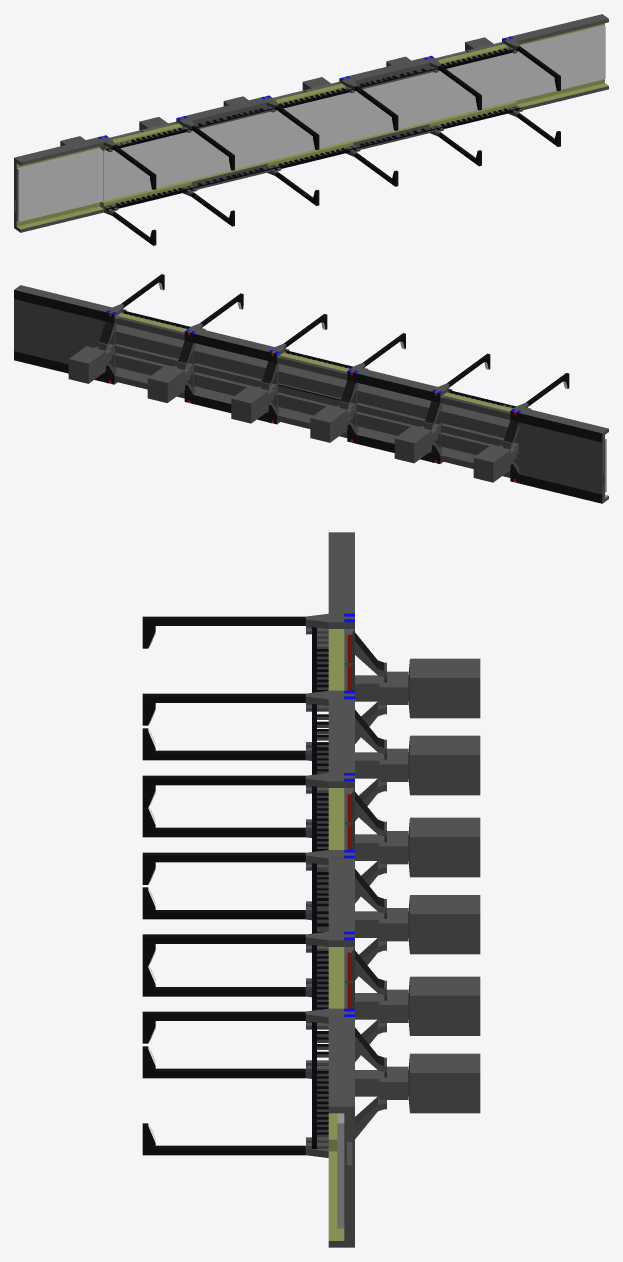
File: bridge2.obj
The picture shows the model from 3 angles, top to bottom: view 1: azimuth 30°, elevation 25°; view 2: azimuth 150°, elevation 25°; view 3: azimuth 270°, elevation 25°; orthographic projection. The views are drawn at different scales.
Visible parts, largest first — view 1: Cube.003_Cube.004, Cube.000_Cube.010, Cube.008_Cube.000, Cube.009_Cube.001, Cube.006_Cube.008, Cube.004_Cube.005, Cube.005_Cube.017, Cube.001_Cube.015, Cube.002_Cube.016, Cube.007_Cube.009; view 2: Cube.003_Cube.004, Cube.000_Cube.010, Cube.006_Cube.008, Cube.007_Cube.009, Cube.002_Cube.016, Cube.004_Cube.005, Cube.001_Cube.015, Cube.005_Cube.017; view 3: Cube.000_Cube.010, Cube.003_Cube.004, Cube.006_Cube.008, Cube.009_Cube.001.
Boxes of the visible parts, box(x1,y1,x2,y2) form: Cube.003_Cube.004: box(14, 97, 271, 245); Cube.000_Cube.010: box(348, 14, 608, 166); Cube.008_Cube.000: box(17, 148, 103, 221); Cube.009_Cube.001: box(520, 25, 605, 99); Cube.006_Cube.008: box(223, 76, 398, 205); Cube.004_Cube.005: box(103, 132, 188, 200); Cube.005_Cube.017: box(436, 51, 521, 119); Cube.001_Cube.015: box(268, 92, 352, 160); Cube.002_Cube.016: box(353, 72, 437, 140); Cube.007_Cube.009: box(184, 112, 268, 181); Cube.003_Cube.004: box(355, 353, 608, 503); Cube.000_Cube.010: box(14, 274, 274, 421); Cube.006_Cube.008: box(231, 314, 405, 443); Cube.007_Cube.009: box(358, 383, 431, 441); Cube.002_Cube.016: box(195, 343, 268, 401); Cube.004_Cube.005: box(442, 403, 510, 461); Cube.001_Cube.015: box(279, 363, 346, 421); Cube.005_Cube.017: box(116, 324, 184, 381); Cube.000_Cube.010: box(142, 858, 480, 1247); Cube.003_Cube.004: box(142, 532, 480, 871); Cube.006_Cube.008: box(142, 773, 480, 997); Cube.009_Cube.001: box(337, 1113, 344, 1228).
Bounding box in the file's own units: 515 × 59.46 × 128.
